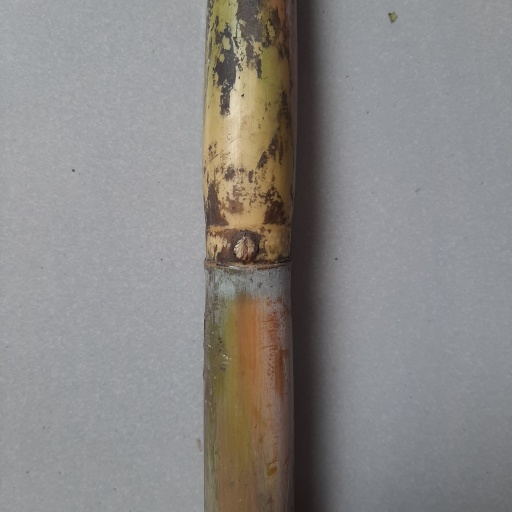Bud: (232, 232, 256, 265)
